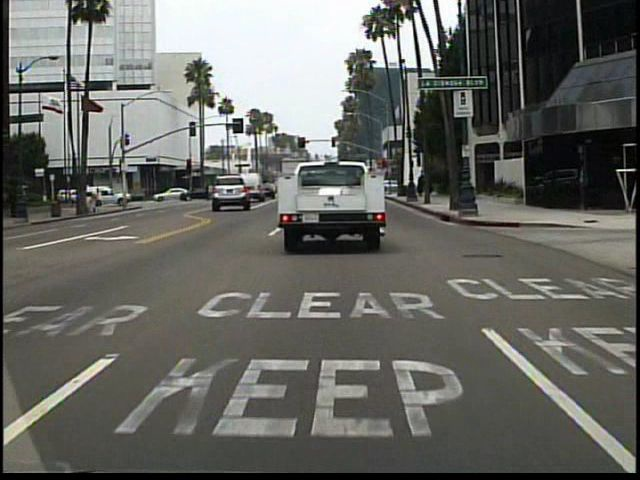person: (95, 187, 108, 214)
